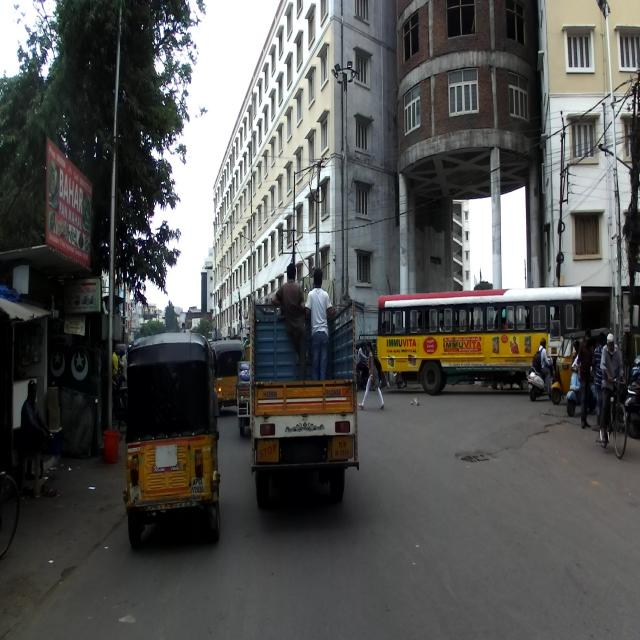autorickshaw: (122, 332, 222, 540), (550, 326, 611, 404)
bus: (378, 290, 586, 400)
scooter: (524, 362, 553, 398)
truck: (249, 295, 359, 507)
